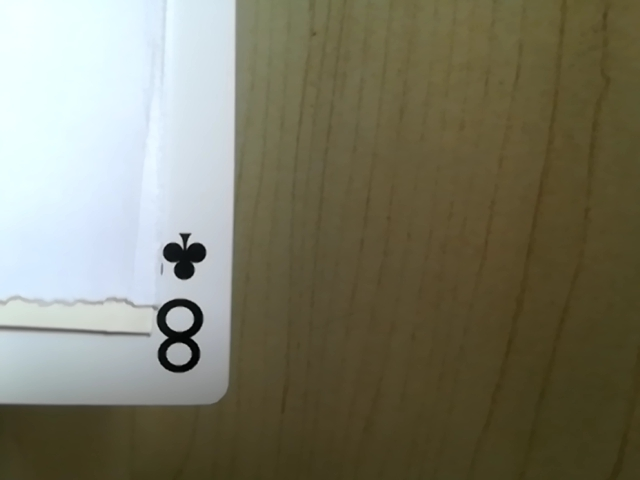mh 8: (105, 220, 234, 408)
